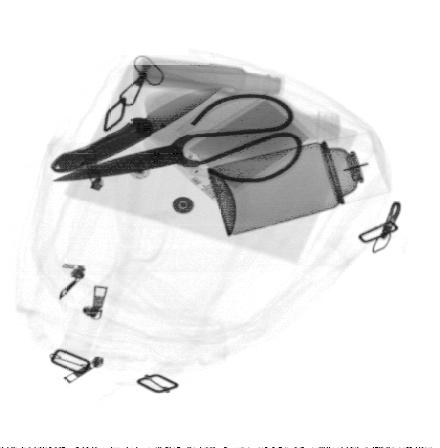Knife: (51, 84, 228, 169)
Powerbank: (168, 88, 323, 206)
Scissors: (47, 91, 308, 187)
Sprayer: (205, 129, 391, 236)
